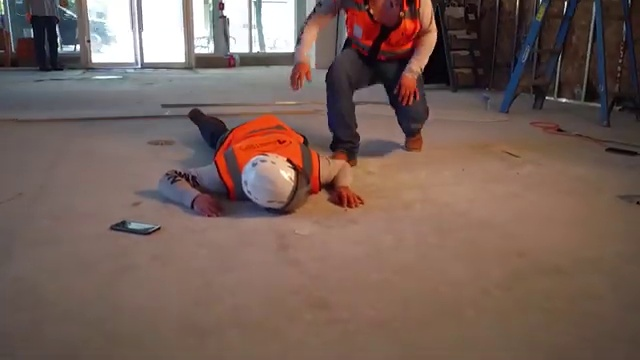helmet: (237, 159, 317, 205)
jacket: (204, 111, 324, 155), (335, 10, 416, 58)
